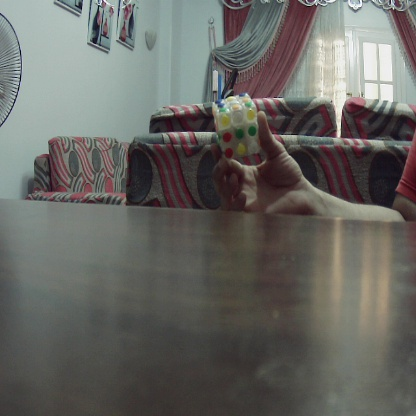Rubix Cube: (213, 94, 259, 157)
